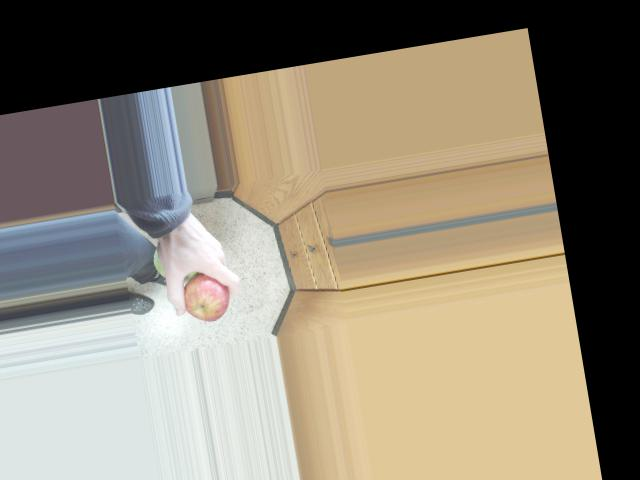apple: (171, 262, 236, 328)
